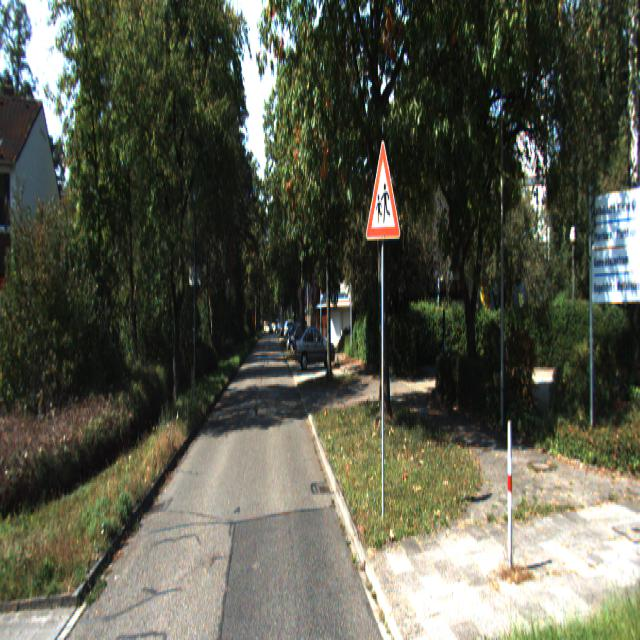Car: (294, 324, 334, 372)
